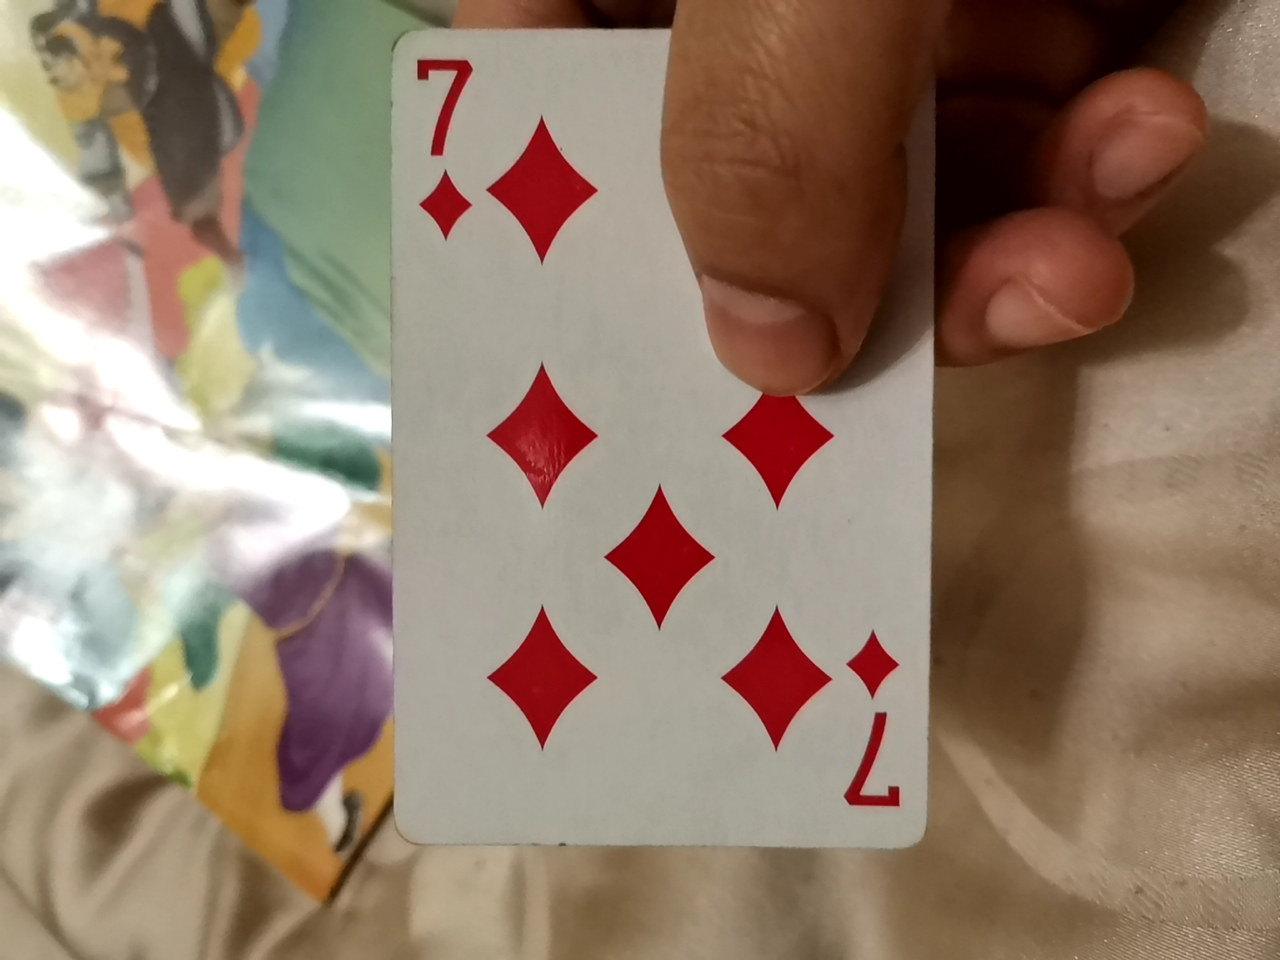fk 7: (380, 38, 936, 908)
